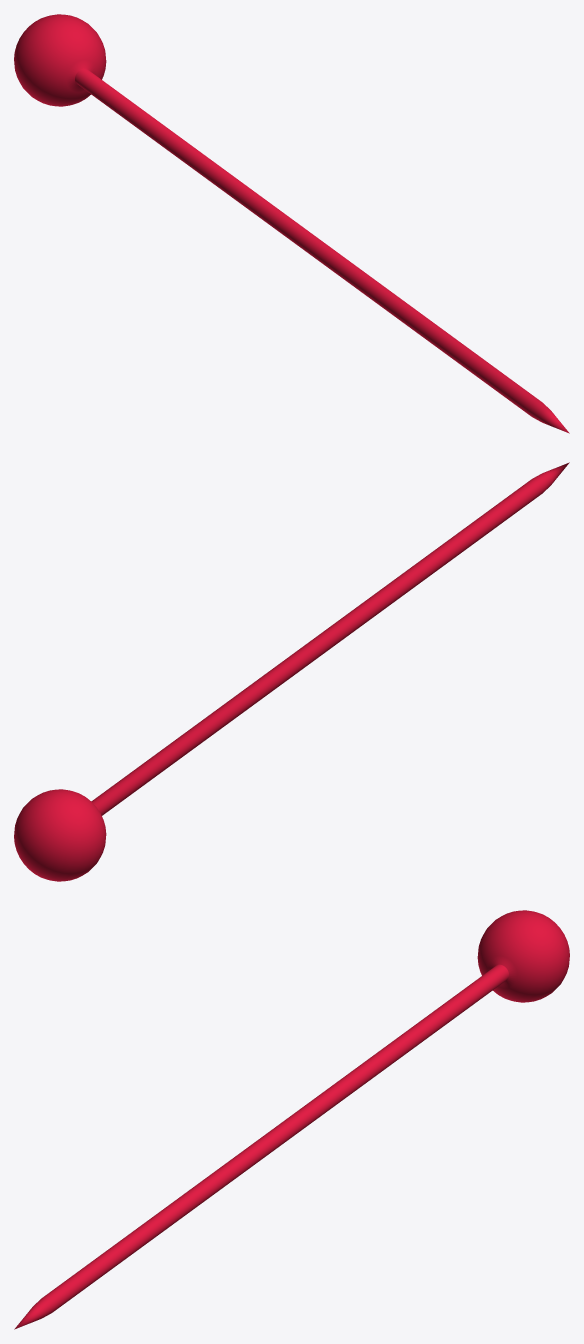
Rendered from RED2.glb.
The picture shows the model from 3 angles, top to bottom: view 1: azimuth 30°, elevation 25°; view 2: azimuth 150°, elevation 25°; view 3: azimuth 330°, elevation 25°; orthographic projection.
Parts seen in each view (by area): view 1: Sphere; view 2: Sphere; view 3: Sphere.
Part boxes in pixels (left/top/right/bottom): Sphere: left=14, top=14, right=569, bottom=433; Sphere: left=14, top=462, right=569, bottom=881; Sphere: left=14, top=910, right=569, bottom=1329.
Bounding box in the file's own units: 0.02 × 0.02 × 0.2305.
